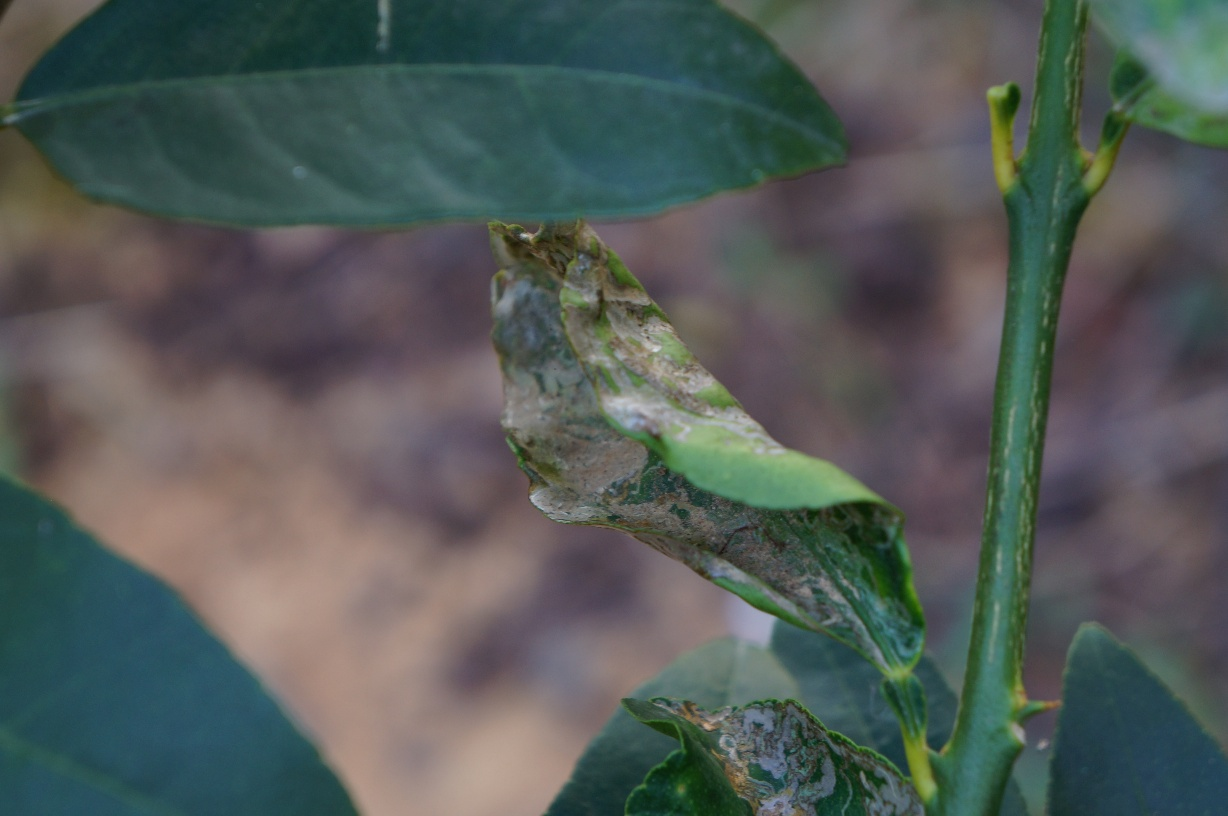curly: (478, 214, 933, 698)
damage: (479, 221, 728, 575)
